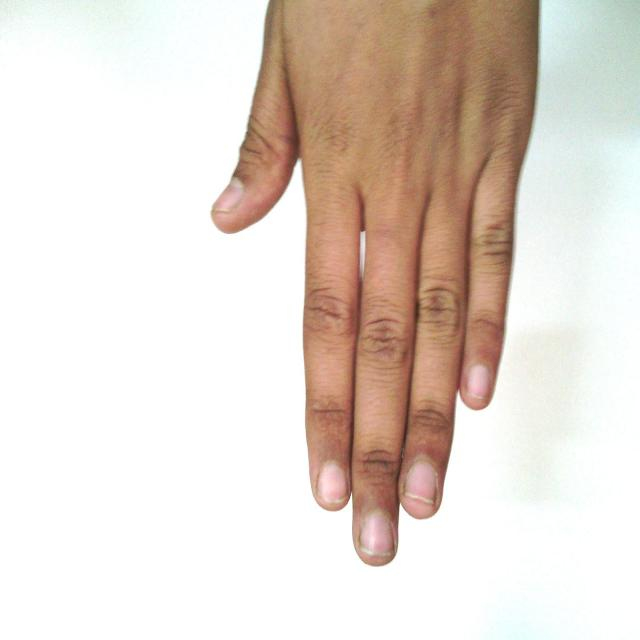others: (199, 1, 560, 572)
